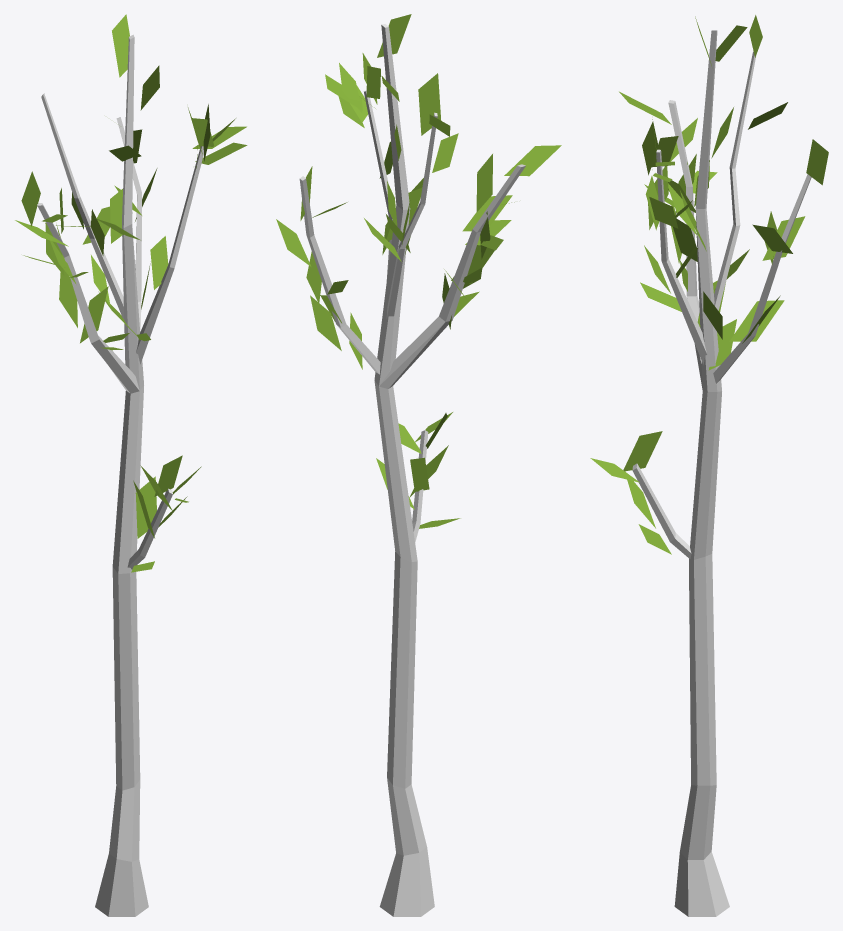
File: tree-willow-weeping-sapling-a.gltf
3 views of the same model, side by side, from view 1: azimuth 30°, elevation 25°; view 2: azimuth 150°, elevation 25°; view 3: azimuth 270°, elevation 25° (orthographic). The views are drawn at different scales.
Parts seen in each view (by area): view 1: tree-willow-weeping-sapling-a; view 2: tree-willow-weeping-sapling-a; view 3: tree-willow-weeping-sapling-a.
Boxes of the visible parts, bbox=[...] form: tree-willow-weeping-sapling-a: bbox=[15, 14, 247, 916]; tree-willow-weeping-sapling-a: bbox=[276, 14, 561, 916]; tree-willow-weeping-sapling-a: bbox=[590, 15, 828, 916].
Bounding box in the file's own units: 0.00508 × 0.0195 × 0.00473.
